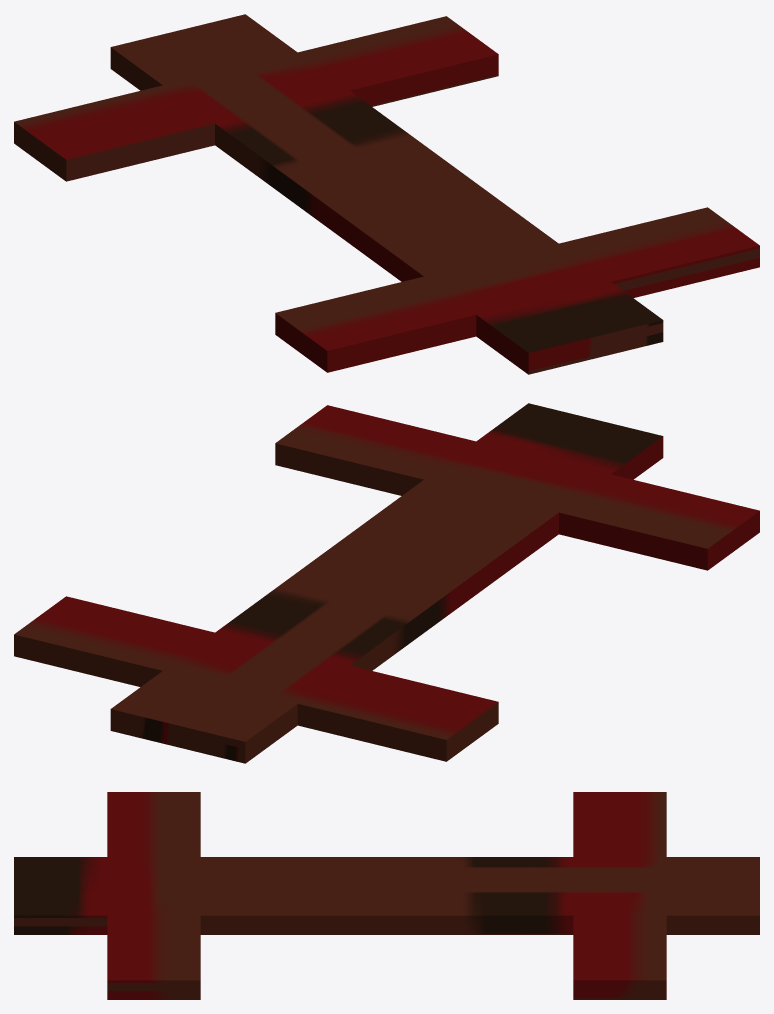
The model's file is Dock.glb.
3 views of the same model, one above another, from view 1: azimuth 30°, elevation 25°; view 2: azimuth 150°, elevation 25°; view 3: azimuth 270°, elevation 25° (orthographic). The views are drawn at different scales.
Parts seen in each view (by area): view 1: Cube; view 2: Cube; view 3: Cube.
Part boxes in pixels (box(x1,y1,x2,y2)): Cube: box(14, 14, 759, 374); Cube: box(14, 403, 759, 763); Cube: box(14, 792, 759, 999).
Bounding box in the file's own units: 11.62 × 0.5593 × 19.44.
1 material, 1 textured.
